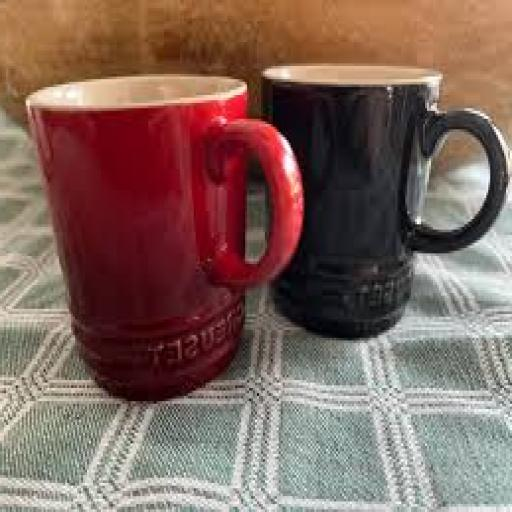red mug: (27, 77, 301, 398)
